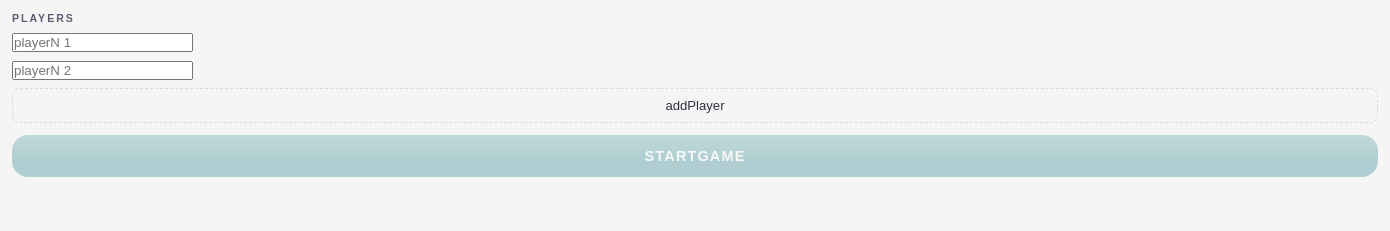
Scenario: game match forms smoke tests › SushiDoNewMatch hides the delete button until a row is loaded above the minimum
Click the button with test id "add-player" at [695, 106], box left=12, top=88, right=1378, bottom=123
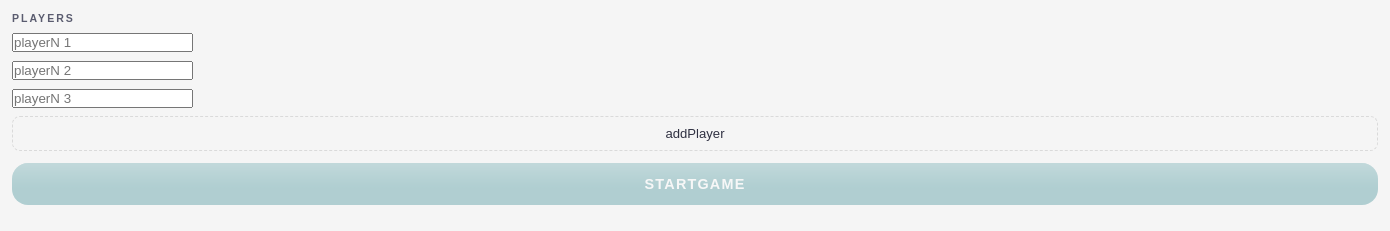
Type "Alice" into the field with test id "linked-player-input" showing "playerN 1" at [102, 42], box left=12, top=33, right=193, bottom=52
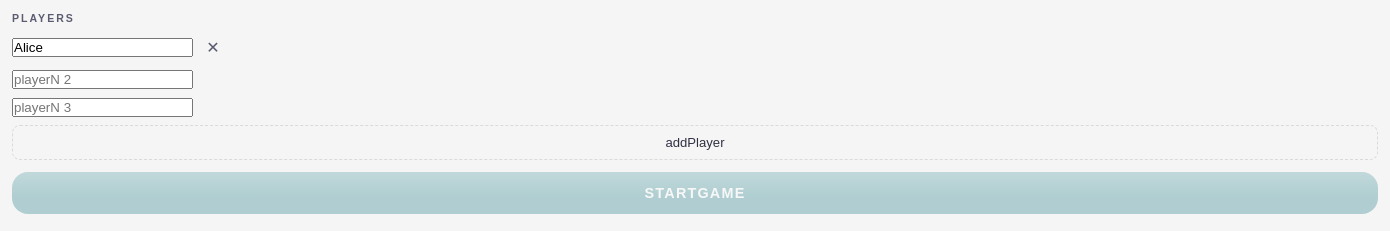
Expected: the number of buttons named "delete" is 1, left=199, top=33, right=227, bottom=61
